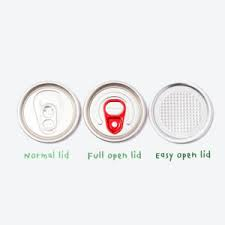can: (18, 80, 214, 149)
